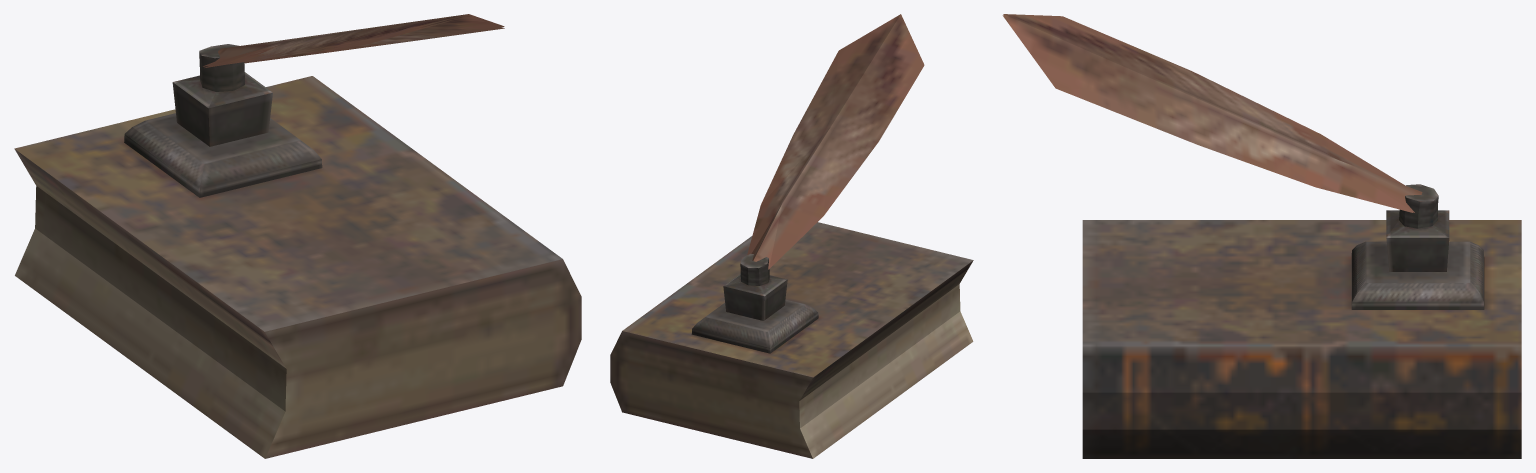
Rendered from bg_lut_lucastle_libraryprop03a_sm_artree.FBX.
3 views of the same model, side by side, from view 1: azimuth 30°, elevation 25°; view 2: azimuth 150°, elevation 25°; view 3: azimuth 270°, elevation 25° (orthographic). The views are drawn at different scales.
Visible parts, largest first — view 1: bg_lut_lucastle_libraryprop03a_sm_artree; view 2: bg_lut_lucastle_libraryprop03a_sm_artree; view 3: bg_lut_lucastle_libraryprop03a_sm_artree.
Part boxes in pixels (x1,y1,x2,y2): bg_lut_lucastle_libraryprop03a_sm_artree: (14,14,581,458); bg_lut_lucastle_libraryprop03a_sm_artree: (610,14,973,458); bg_lut_lucastle_libraryprop03a_sm_artree: (1002,14,1521,458).
Size of the model in its own units: 39.51 by 52.34 by 63.93.
